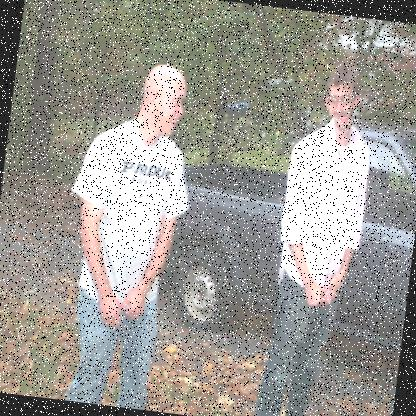Car: (152, 97, 415, 356)
